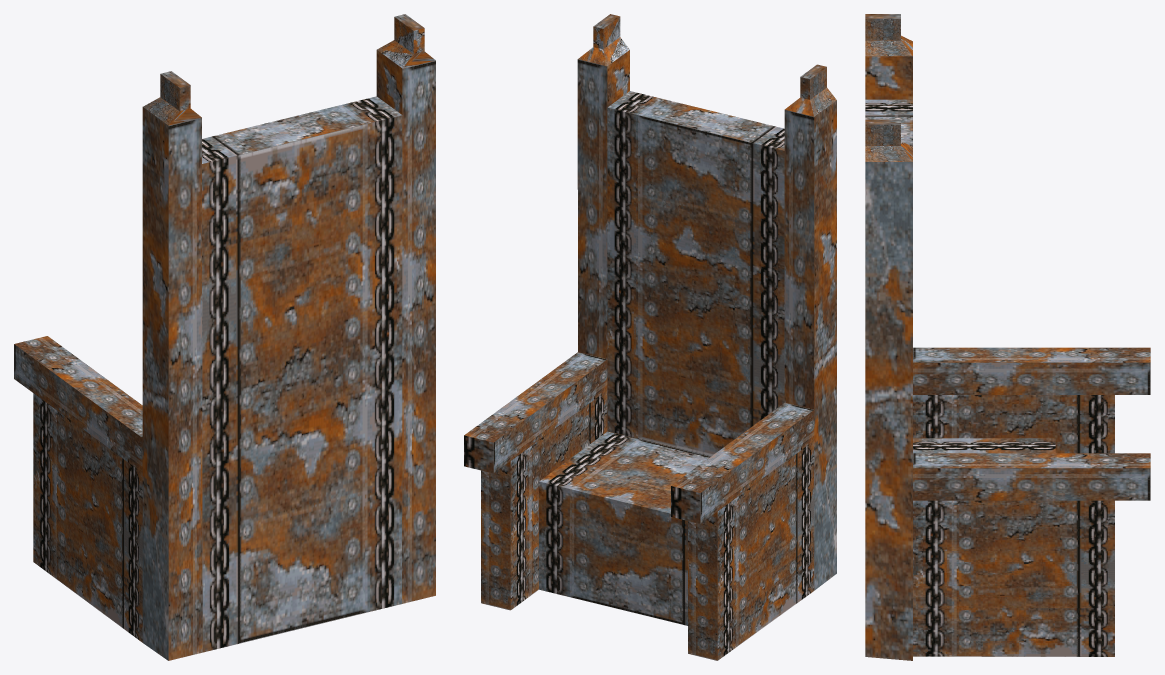
File: Big Chair.fbx
3 views of the same model, side by side, from view 1: azimuth 30°, elevation 25°; view 2: azimuth 150°, elevation 25°; view 3: azimuth 270°, elevation 25° (orthographic). The views are drawn at different scales.
Visible parts, largest first — view 1: object_3; view 2: object_3; view 3: object_3.
Boxes of the visible parts, x1,y1,x2,y2 form: object_3: [14, 14, 435, 660]; object_3: [464, 14, 836, 660]; object_3: [865, 14, 1150, 660].
Size of the model in its own units: 172 by 352 by 172.
